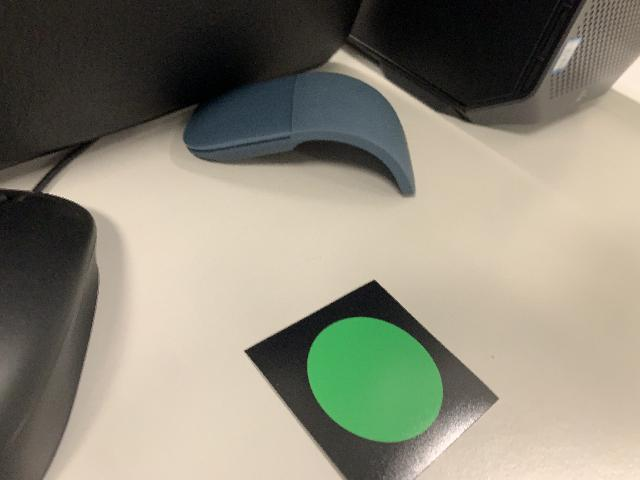go: (242, 274, 509, 480)
